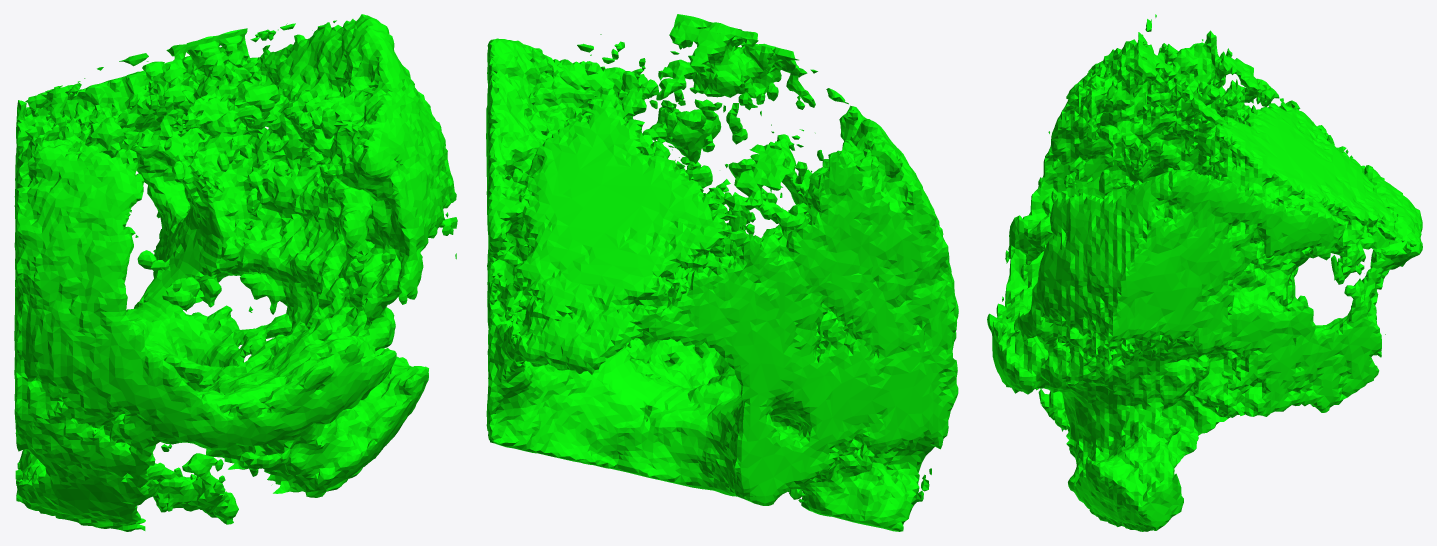
Rendered from B939XXXX-1_base_0.5F_0.obj.
3 views of the same model, side by side, from view 1: azimuth 30°, elevation 25°; view 2: azimuth 150°, elevation 25°; view 3: azimuth 270°, elevation 25° (orthographic). The views are drawn at different scales.
Visible parts, largest first — view 1: B939XXXX-10; view 2: B939XXXX-10; view 3: B939XXXX-10.
Boxes of the visible parts, box(x1,y1,x2,y2) form: B939XXXX-10: box(14, 14, 457, 531); B939XXXX-10: box(486, 14, 958, 531); B939XXXX-10: box(987, 14, 1422, 531).
Bounding box in the file's own units: 219 × 219 × 205.
